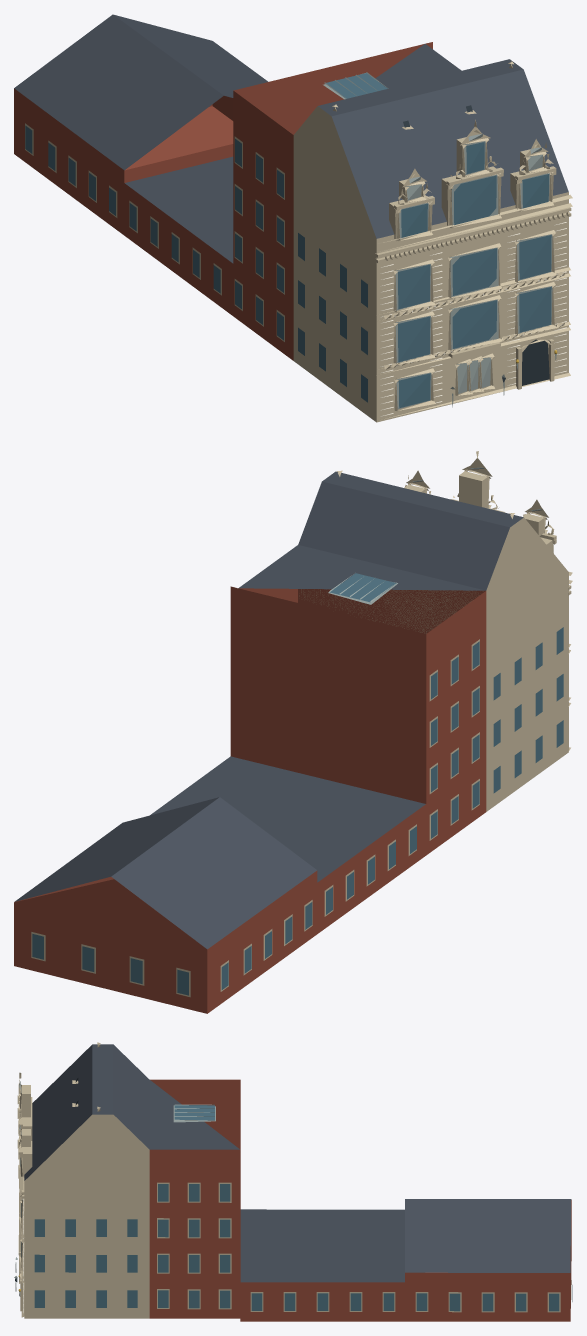
Rendered from niod.lod1.glb.
The picture shows the model from 3 angles, top to bottom: view 1: azimuth 30°, elevation 25°; view 2: azimuth 150°, elevation 25°; view 3: azimuth 270°, elevation 25°; orthographic projection. The views are drawn at different scales.
Visible parts, largest first — view 1: niod; view 2: niod; view 3: niod.
Part boxes in pixels (box(x1,y1,x2,y2)): niod: box(14, 14, 572, 422); niod: box(14, 451, 572, 1013); niod: box(14, 1042, 572, 1321).
Size of the model in its own units: 17.59 by 23.15 by 55.68.
